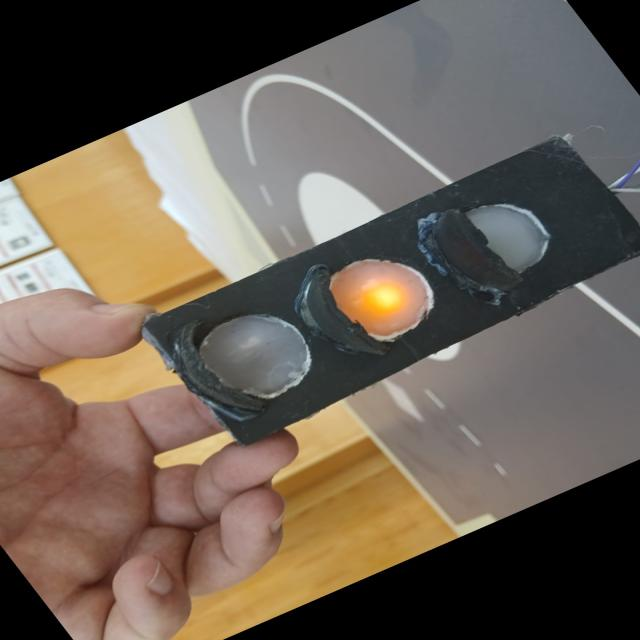trafic lights: (141, 138, 639, 444)
yellow: (329, 260, 433, 342)
